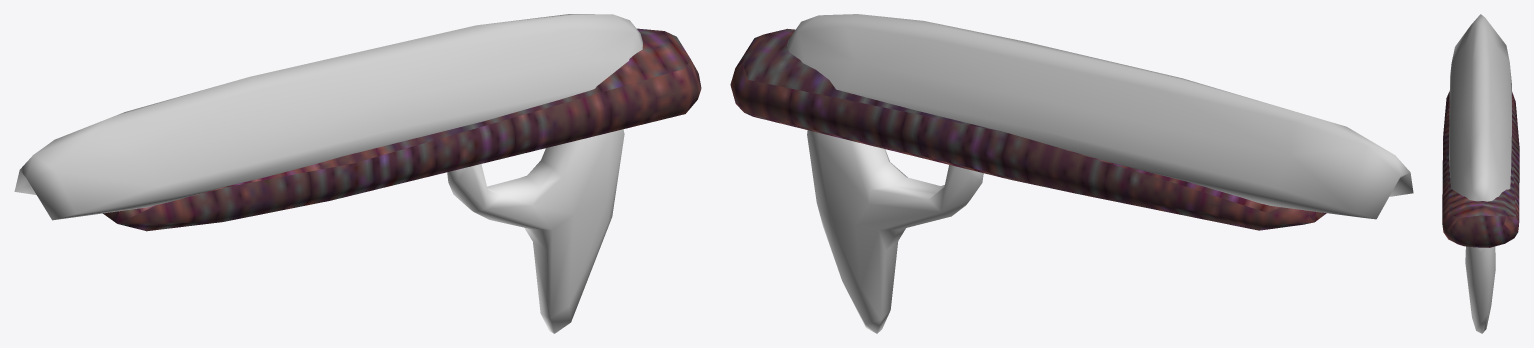
Rendered from coolFuckingWeapon.fbx.
3 views of the same model, side by side, from view 1: azimuth 30°, elevation 25°; view 2: azimuth 150°, elevation 25°; view 3: azimuth 270°, elevation 25° (orthographic). The views are drawn at different scales.
Parts seen in each view (by area): view 1: Cube.001; view 2: Cube.001; view 3: Cube.001.
Boxes of the visible parts, <box> form: Cube.001: <box>14,14,701,333</box>; Cube.001: <box>730,14,1413,333</box>; Cube.001: <box>1442,14,1519,333</box>.
Bounding box in the file's own units: 226 × 108 × 40.4.
